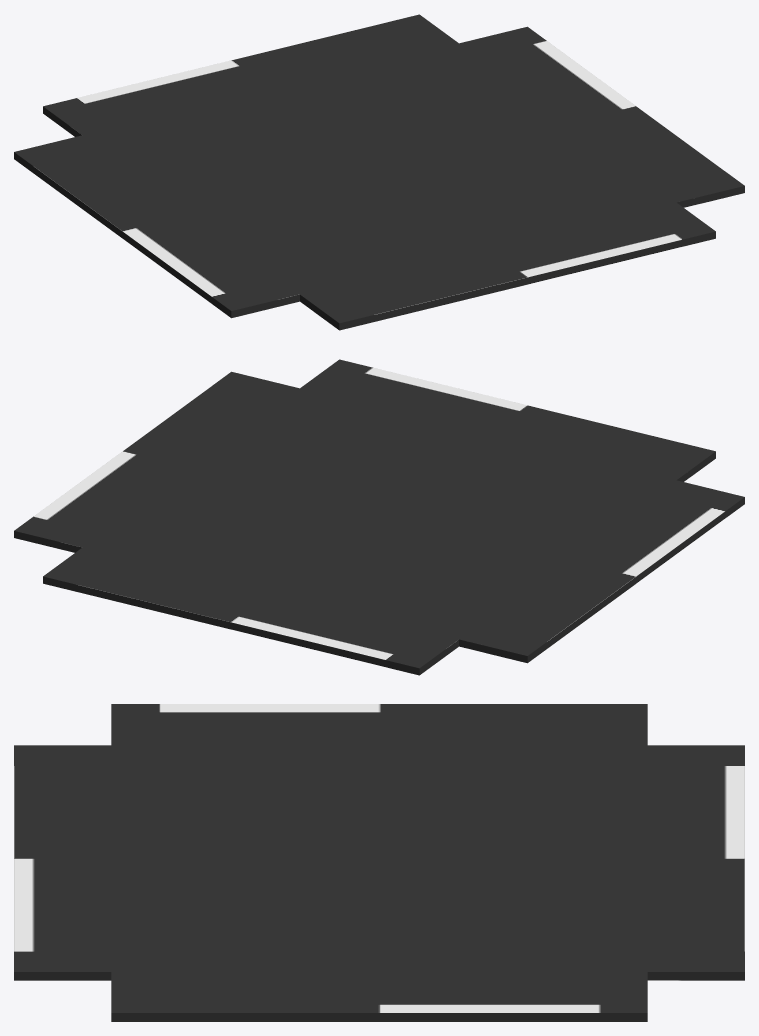
File: intersection.dae
3 views of the same model, one above another, from view 1: azimuth 30°, elevation 25°; view 2: azimuth 150°, elevation 25°; view 3: azimuth 270°, elevation 25° (orthographic). The views are drawn at different scales.
Parts seen in each view (by area): view 1: Box002, Box001; view 2: Box002, Box001; view 3: Box002, Box001.
Boxes of the visible parts, x1,y1,x2,y2 form: Box002: (14, 26, 744, 318); Box001: (43, 14, 715, 330); Box002: (14, 371, 744, 663); Box001: (43, 359, 715, 675); Box002: (111, 704, 647, 1021); Box001: (14, 745, 744, 980).
Bounding box in the file's own units: 591 × 591 × 7.87.
1 material, 1 textured.
